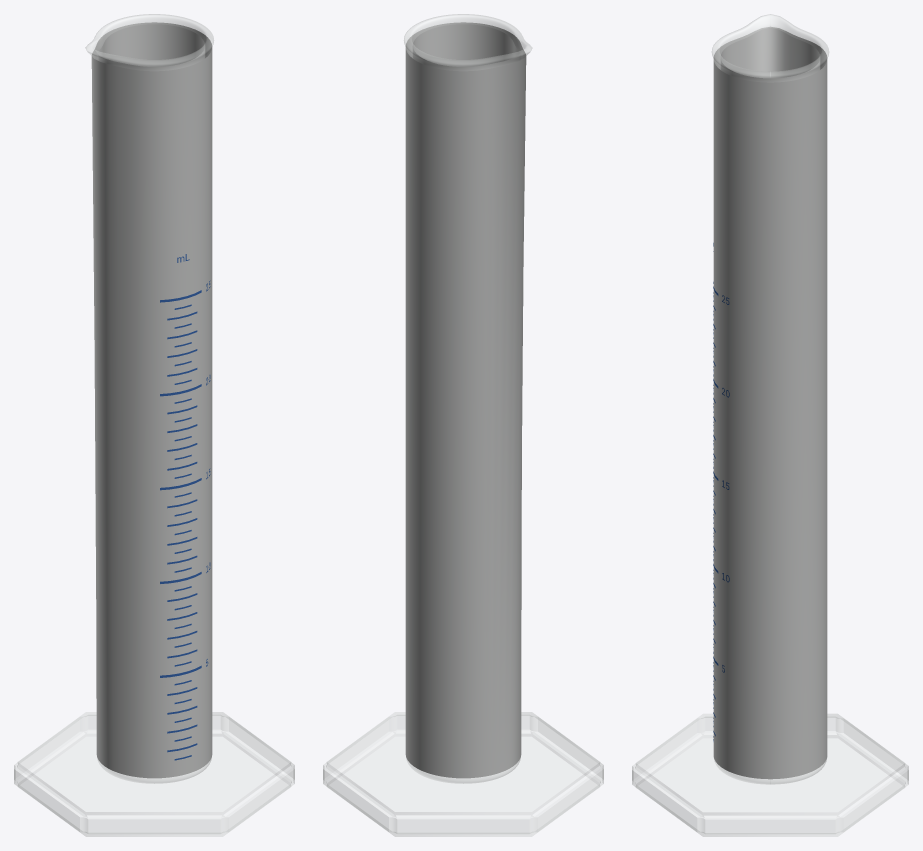
File: graduated-cylinder-25ml.glb
The picture shows the model from 3 angles, left to right: view 1: azimuth 30°, elevation 25°; view 2: azimuth 150°, elevation 25°; view 3: azimuth 270°, elevation 25°; orthographic projection.
Visible parts, largest first — view 1: Cylinder_glass, Cylinder_foot, Cylinder_graduations; view 2: Cylinder_glass, Cylinder_foot; view 3: Cylinder_glass, Cylinder_foot, Cylinder_graduations.
Part boxes in pixels (x1,y1,x2,y2): Cylinder_glass: (85,14,213,783); Cylinder_foot: (14,712,294,836); Cylinder_graduations: (160,254,210,760); Cylinder_glass: (404,14,532,783); Cylinder_foot: (323,712,603,836); Cylinder_glass: (712,14,828,784); Cylinder_foot: (632,714,908,836); Cylinder_graduations: (713,243,729,741).
Bounding box in the file's own units: 0.045 × 0.151 × 0.051.
